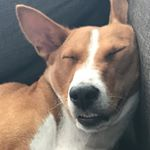puppy: (13, 1, 143, 150)
